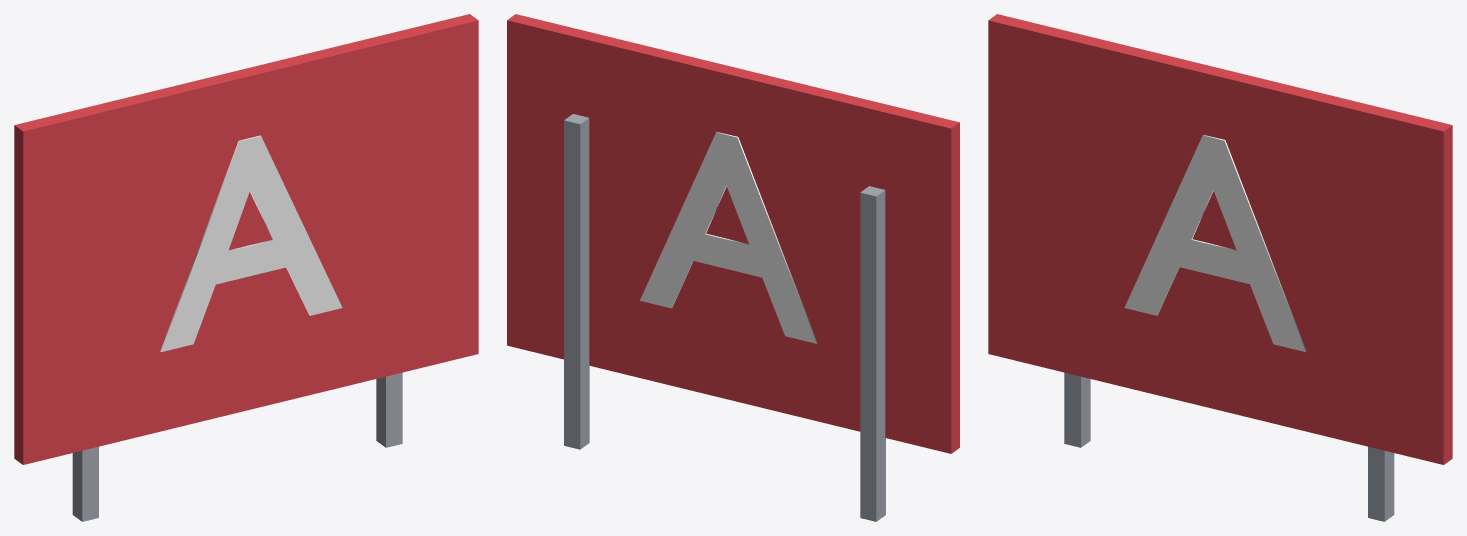
The model's file is setor_A.glb.
The picture shows the model from 3 angles, left to right: view 1: azimuth 30°, elevation 25°; view 2: azimuth 150°, elevation 25°; view 3: azimuth 330°, elevation 25°; orthographic projection. The views are drawn at different scales.
Visible parts, largest first — view 1: vermelho, t, aco; view 2: vermelho, aco, t.001; view 3: vermelho, t, aco.
Boxes of the visible parts, x1,y1,x2,y2 form: vermelho: [14, 14, 478, 464]; t: [160, 135, 342, 352]; aco: [72, 372, 402, 521]; vermelho: [507, 14, 959, 453]; aco: [564, 114, 885, 521]; t.001: [640, 132, 817, 343]; vermelho: [988, 14, 1452, 464]; t: [1124, 134, 1306, 352]; aco: [1064, 372, 1394, 521].
Bounding box in the file's own units: 6 × 5.2 × 0.432.
